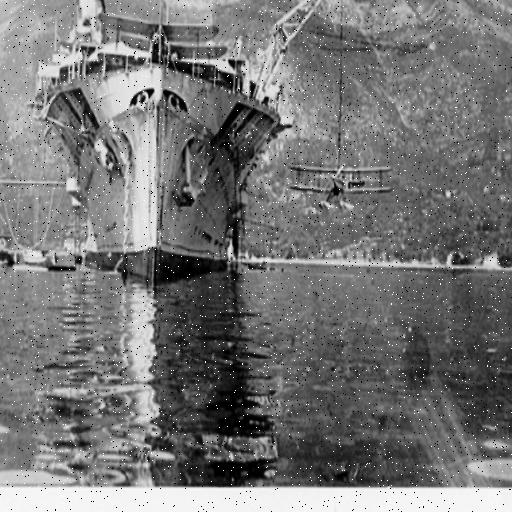Portanaves: (36, 1, 291, 293)
